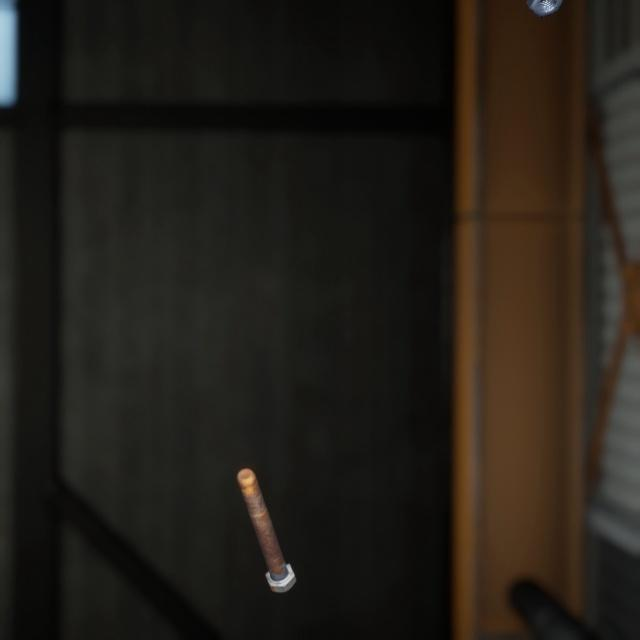bolt: (232, 440, 300, 574)
